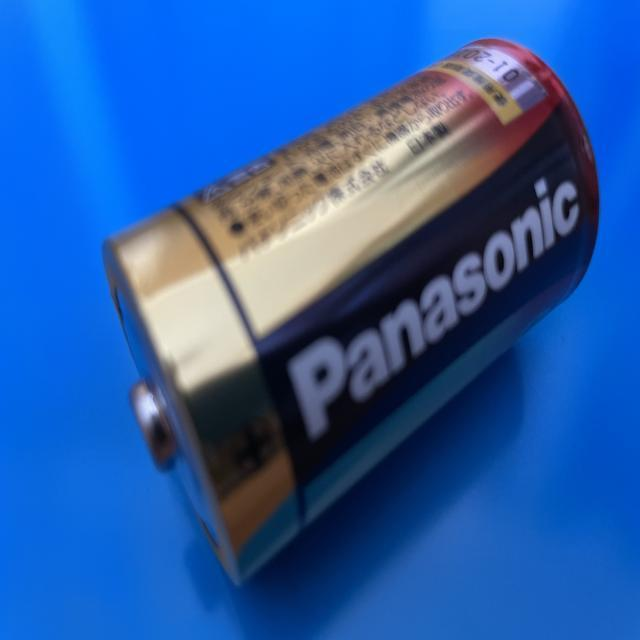Hazard: (97, 33, 602, 594)
